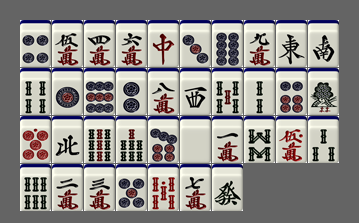0m: (276, 116, 307, 163)
0p: (20, 116, 51, 163)
0s: (148, 164, 179, 211)
1m: (212, 116, 243, 163)
1p: (52, 68, 83, 115)
1s: (308, 68, 339, 115)
1z: (276, 20, 307, 67)
2m: (52, 164, 83, 211)
2p: (116, 68, 147, 115)
2s: (244, 68, 275, 115)
2z: (308, 20, 339, 67)
3m: (84, 164, 115, 211)
3p: (180, 20, 211, 67)
3s: (308, 116, 339, 163)
3z: (180, 68, 211, 115)
4m: (84, 20, 115, 67)
4p: (20, 20, 51, 67)
4s: (20, 68, 51, 115)
4z: (52, 116, 83, 163)
5m: (52, 20, 83, 67)
5p: (116, 164, 147, 211)
5s: (212, 68, 243, 115)
5z: (180, 116, 211, 163)
6m: (116, 20, 147, 67)
6p: (276, 68, 307, 115)
6s: (20, 164, 51, 211)
6z: (212, 164, 243, 211)
7m: (180, 164, 211, 211)
7p: (148, 116, 179, 163)
7s: (116, 116, 147, 163)
7z: (148, 20, 179, 67)
8m: (148, 68, 179, 115)
8p: (212, 20, 243, 67)
8s: (244, 116, 275, 163)
9m: (244, 20, 275, 67)
9p: (84, 68, 115, 115)
9s: (84, 116, 115, 163)
